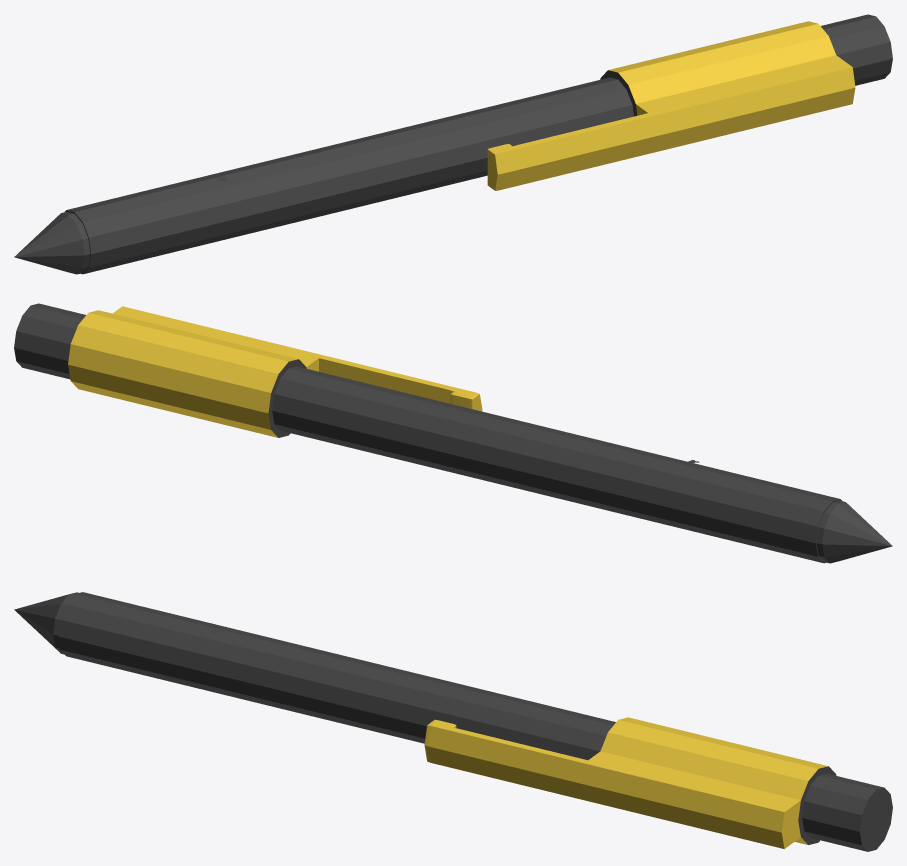
Rendered from Caneta.fbx.
3 renders of one model, top to bottom at view 1: azimuth 30°, elevation 25°; view 2: azimuth 150°, elevation 25°; view 3: azimuth 330°, elevation 25°, orthographic.
Parts seen in each view (by area): view 1: Caneta; view 2: Caneta; view 3: Caneta.
Boxes of the visible parts, x1,y1,x2,y2 form: Caneta: (14, 14, 892, 274); Caneta: (14, 303, 892, 563); Caneta: (14, 592, 892, 851).
Bounding box in the file's own units: 71.36 × 5.84 × 8.2.
Materials: 1 (1 with a texture image).
